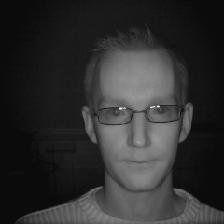normal: (73, 28, 202, 193)
